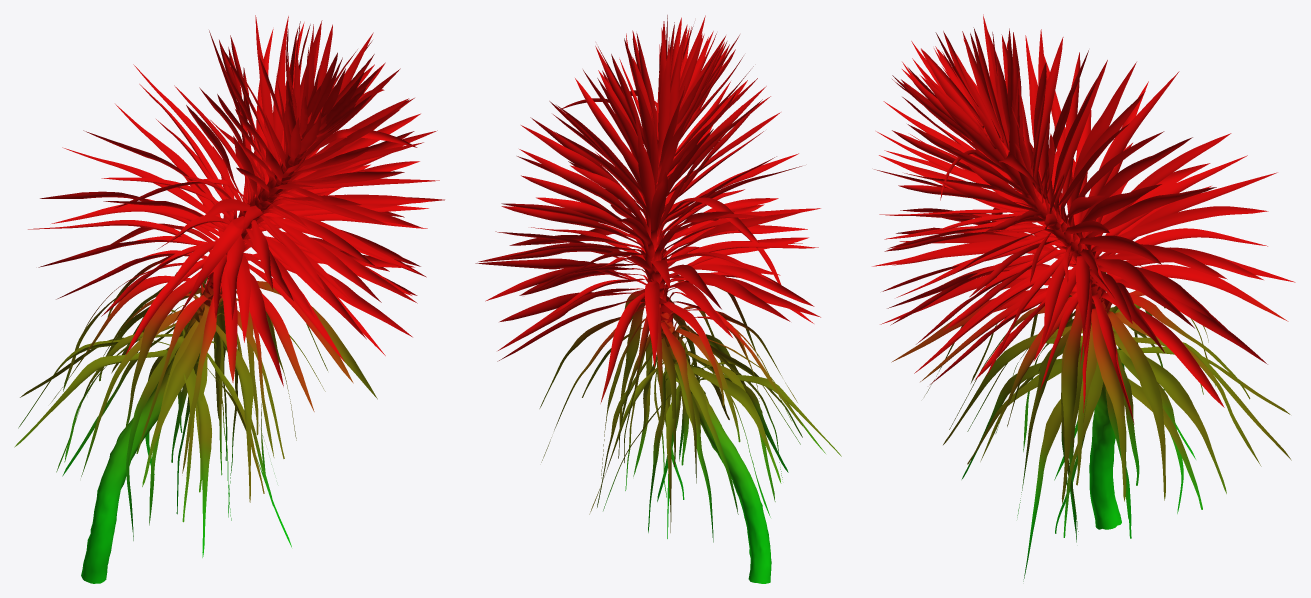
File: Var5_LOD0.fbx
3 renders of one model, left to right at view 1: azimuth 30°, elevation 25°; view 2: azimuth 150°, elevation 25°; view 3: azimuth 270°, elevation 25°, orthographic. The views are drawn at different scales.
Parts seen in each view (by area): view 1: _9imp_Var5_LOD0; view 2: _9imp_Var5_LOD0; view 3: _9imp_Var5_LOD0.
Part boxes in pixels (x1,y1,x2,y2): _9imp_Var5_LOD0: (14, 15, 444, 583); _9imp_Var5_LOD0: (475, 15, 841, 583); _9imp_Var5_LOD0: (872, 14, 1295, 581).
Size of the model in its own units: 103 by 140 by 92.94.
